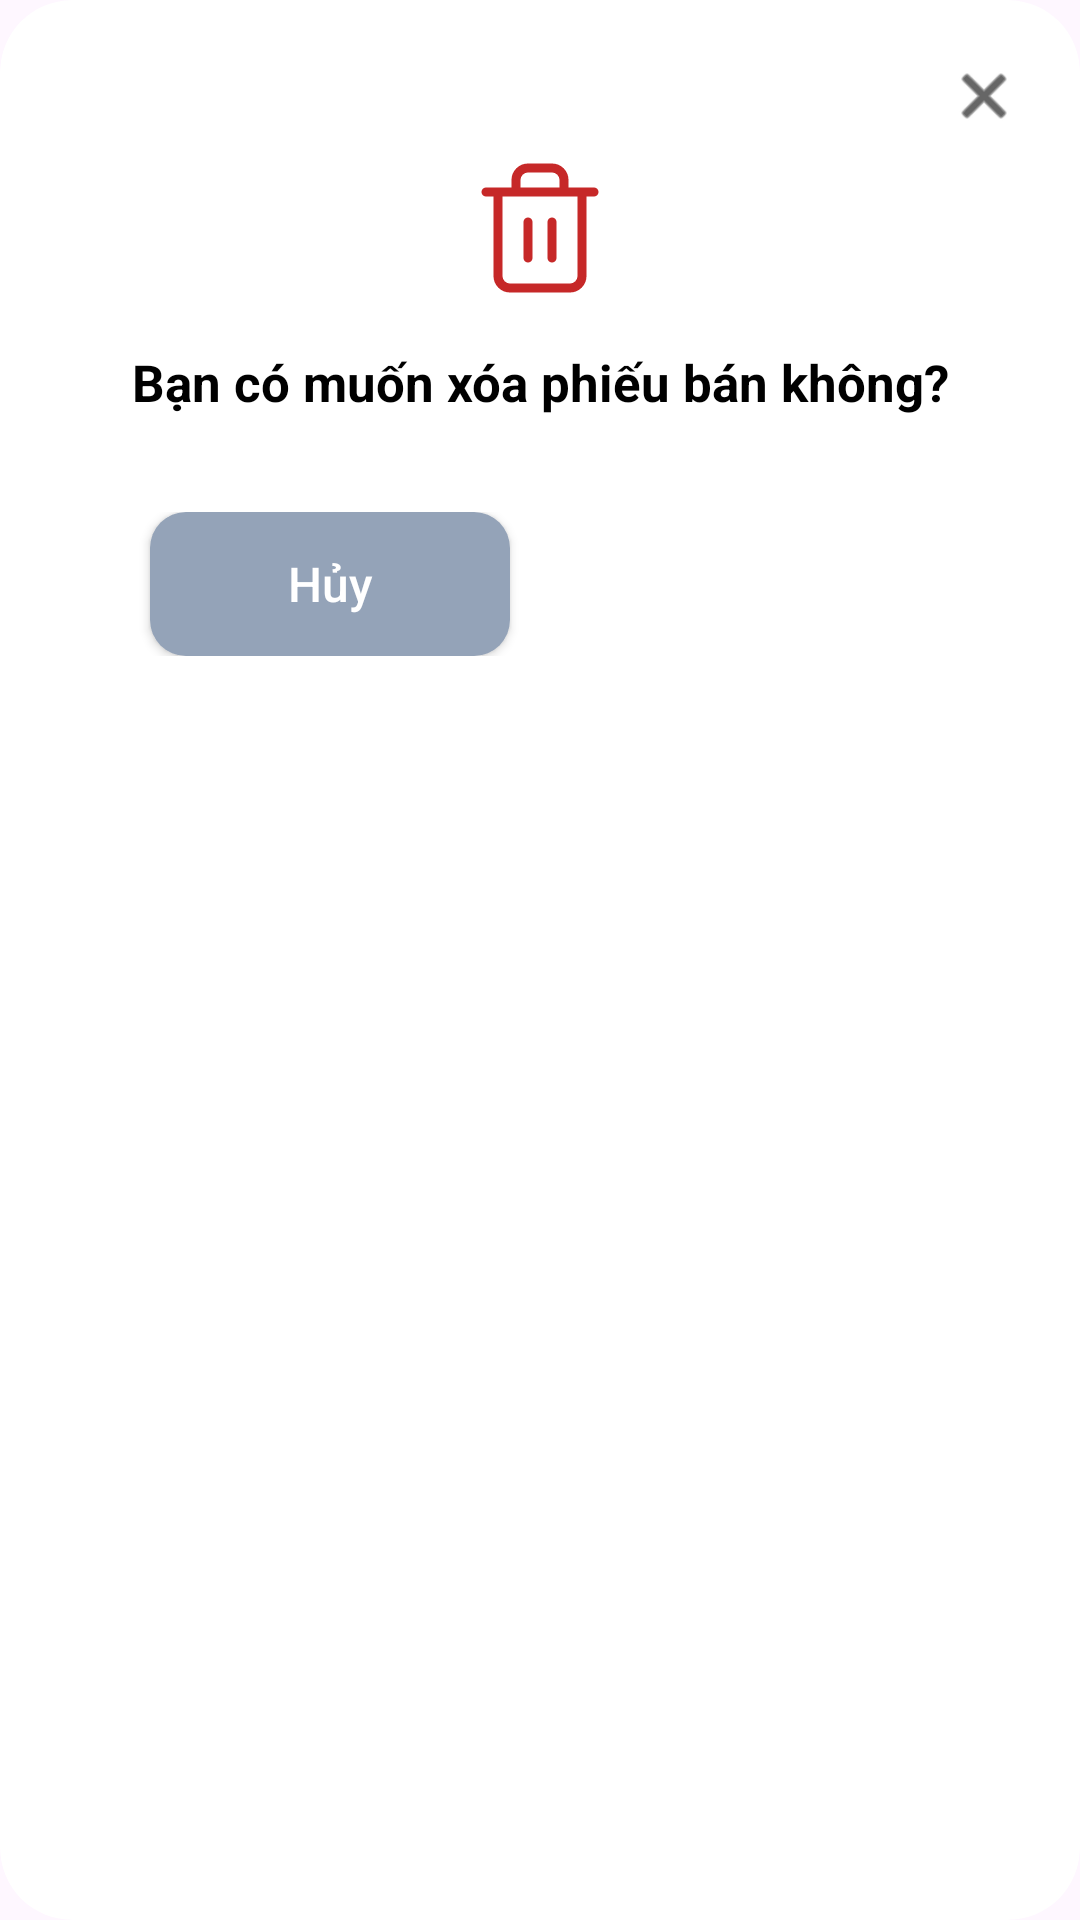

Icons on this 1080 × 1920 Android screen, each with its box as (x1, y1, x2, y2):
close clear cancel: (961, 73, 1007, 119)
delete custom: (481, 163, 599, 293)
